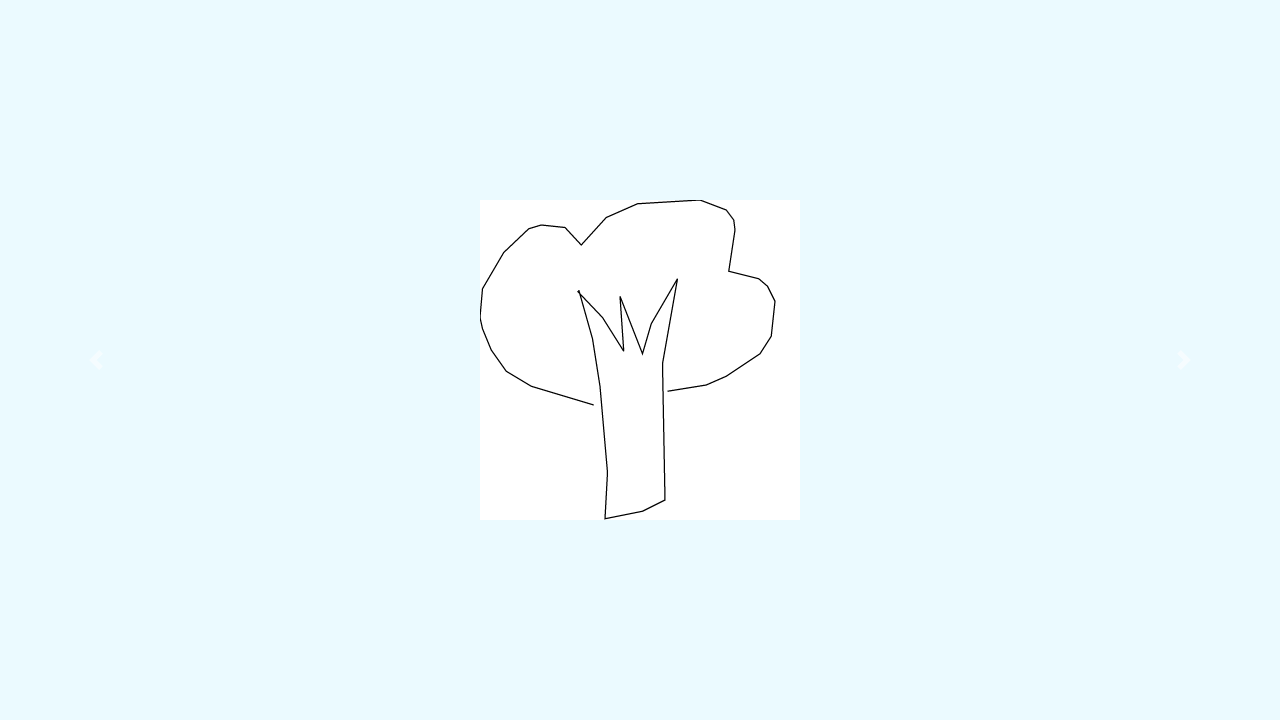tree: (468, 186, 782, 527)
